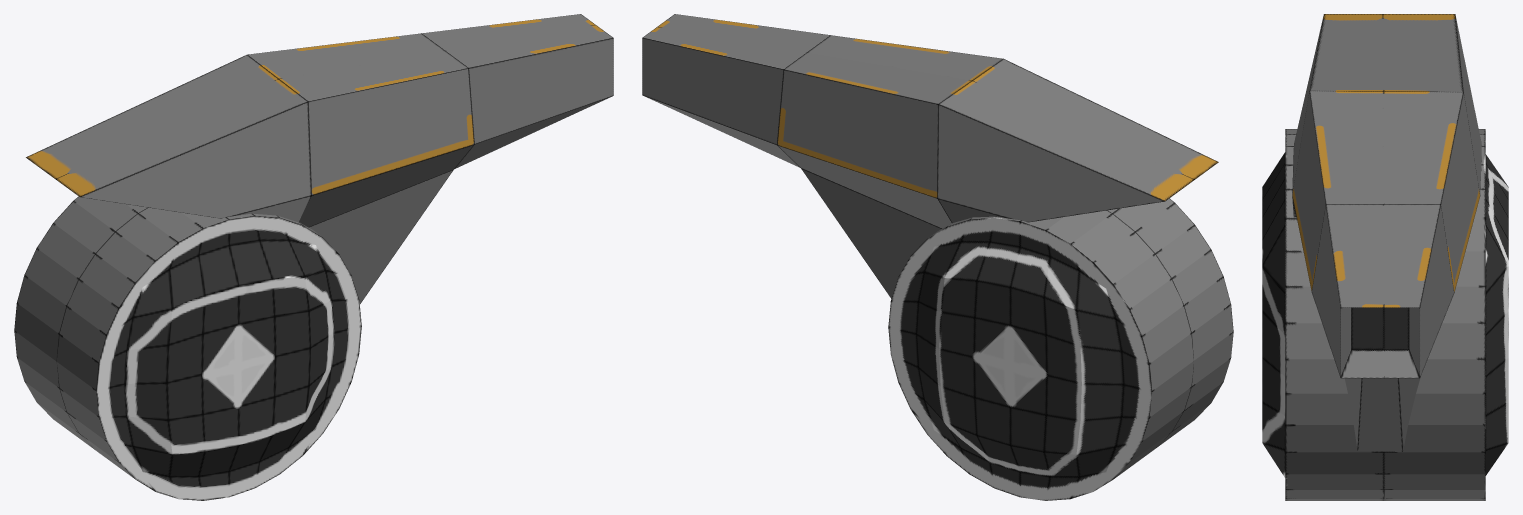
The model's file is Boss-ArmaAsa.fbx.
The picture shows the model from 3 angles, left to right: view 1: azimuth 30°, elevation 25°; view 2: azimuth 150°, elevation 25°; view 3: azimuth 270°, elevation 25°; orthographic projection. The views are drawn at different scales.
Visible parts, largest first — view 1: GunWing; view 2: GunWing; view 3: GunWing.
Boxes of the visible parts, x1,y1,x2,y2 form: GunWing: (14, 14, 613, 500); GunWing: (642, 14, 1233, 500); GunWing: (1262, 14, 1508, 500).
Bounding box in the file's own units: 326 × 211 × 106.
